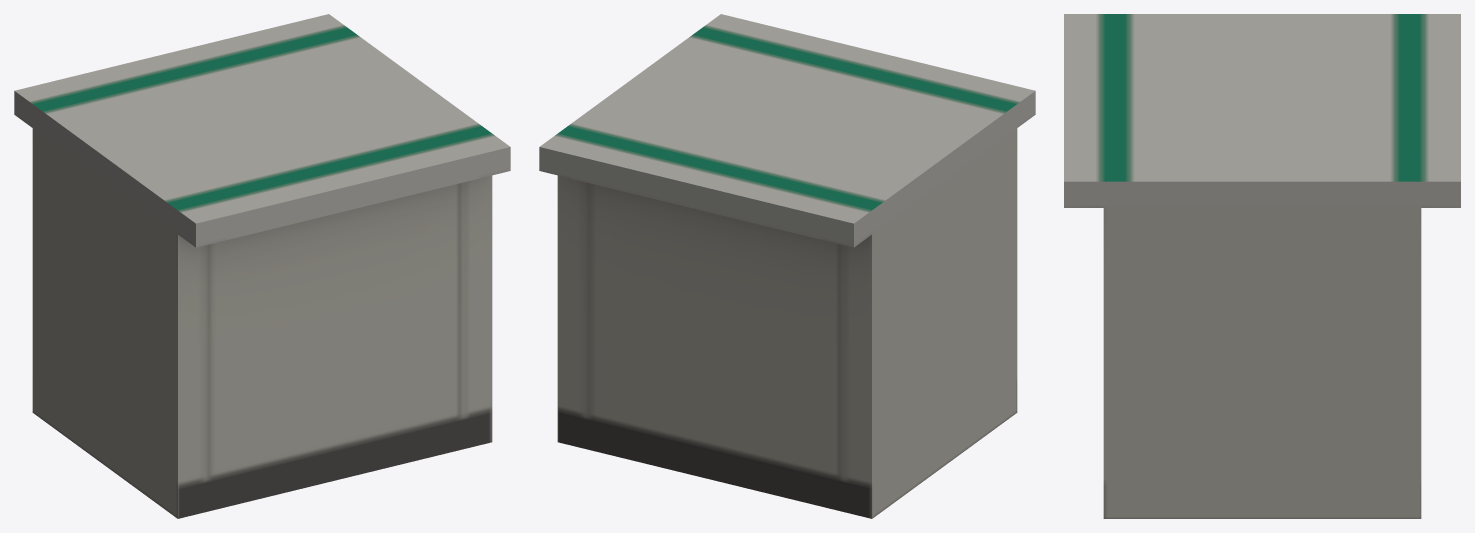
The model's file is sb_obj_ModernCity058_counter_a.fbx.
3 renders of one model, left to right at view 1: azimuth 30°, elevation 25°; view 2: azimuth 150°, elevation 25°; view 3: azimuth 270°, elevation 25°, orthographic. The views are drawn at different scales.
Parts seen in each view (by area): view 1: sb_obj_ModernCity058_counter_a; view 2: sb_obj_ModernCity058_counter_a; view 3: sb_obj_ModernCity058_counter_a.
Part boxes in pixels (bbox=[...]): sb_obj_ModernCity058_counter_a: bbox=[14, 14, 510, 518]; sb_obj_ModernCity058_counter_a: bbox=[539, 14, 1035, 518]; sb_obj_ModernCity058_counter_a: bbox=[1064, 14, 1460, 518].
Bounding box in the file's own units: 0.64 × 0.6 × 0.64.
Materials: 1 (1 with a texture image).
